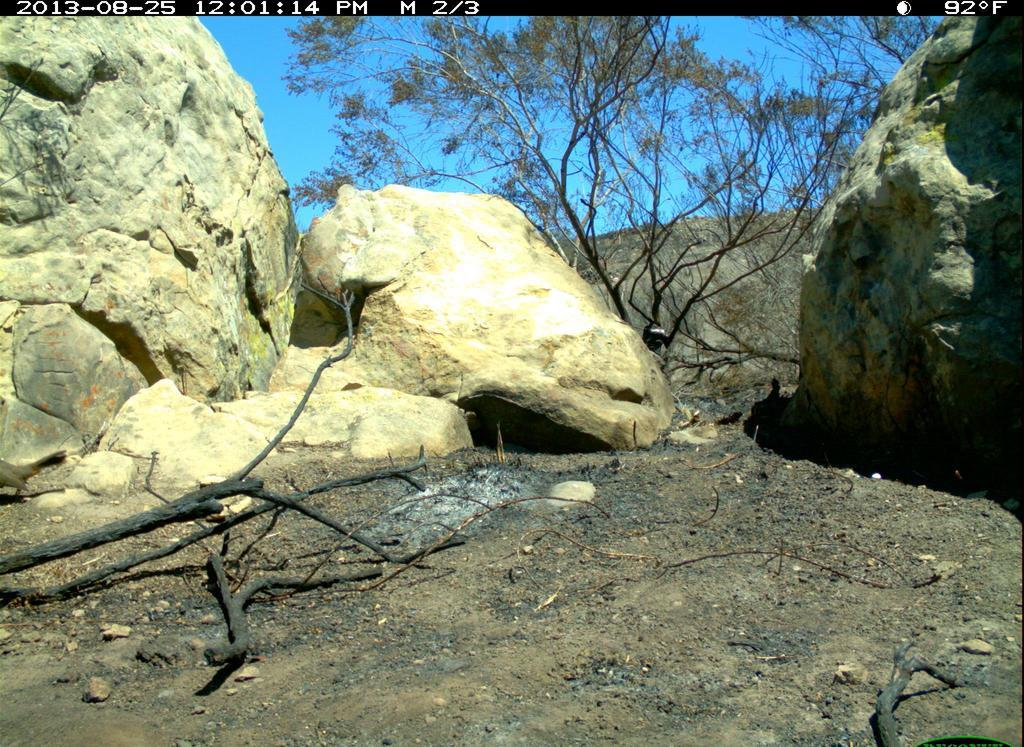bird: (634, 313, 689, 377)
